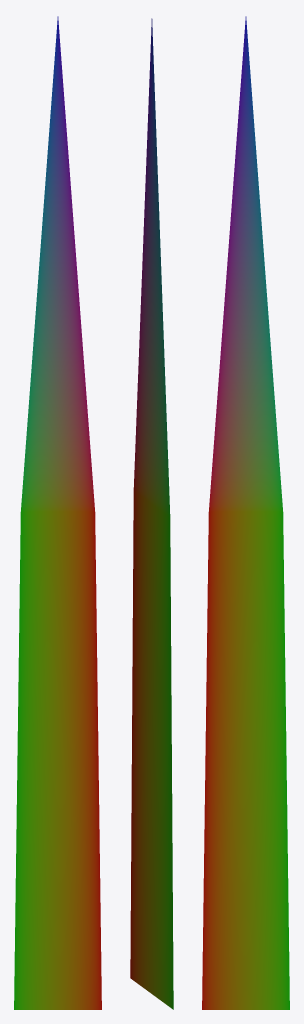
The model's file is blade_lod2.fbx.
3 renders of one model, left to right at view 1: azimuth 90°, elevation 25°; view 2: azimuth 210°, elevation 25°; view 3: azimuth 270°, elevation 25°, orthographic.
Parts seen in each view (by area): view 1: LOD2; view 2: LOD2; view 3: LOD2.
Boxes of the visible parts, x1,y1,x2,y2 form: LOD2: [14, 16, 101, 1009]; LOD2: [130, 18, 173, 1009]; LOD2: [202, 16, 289, 1009].
Bounding box in the file's own units: 7.45e-07 × 4 × 50.
